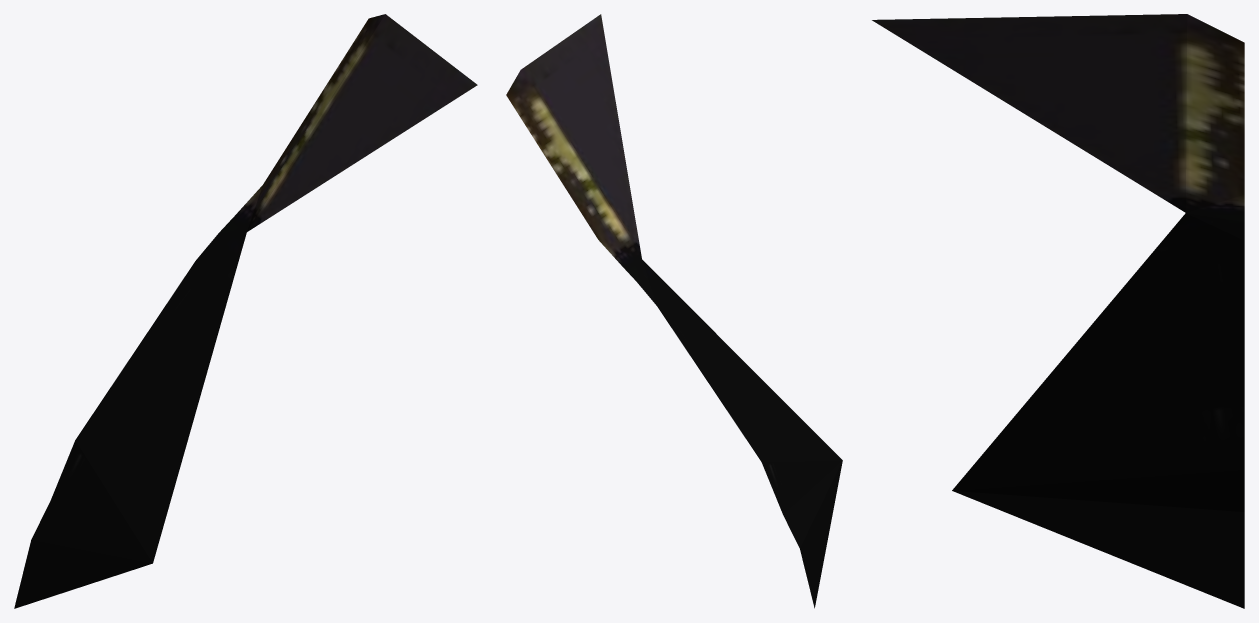
The picture shows the model from 3 angles, left to right: view 1: azimuth 30°, elevation 25°; view 2: azimuth 150°, elevation 25°; view 3: azimuth 270°, elevation 25°; orthographic projection. The views are drawn at different scales.
Size of the model in its own units: 1.48 by 2.07 by 0.7868.
Materials: 1 (1 with a texture image).
